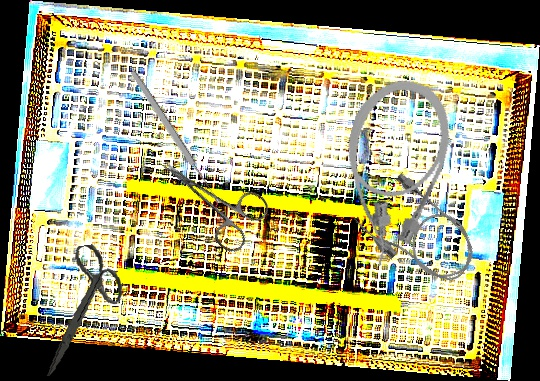Cannula: (317, 68, 464, 276), (348, 166, 489, 301)
Iris Scissors: (146, 137, 274, 257), (28, 240, 134, 377)
Surgical Spoon: (128, 69, 223, 206)
